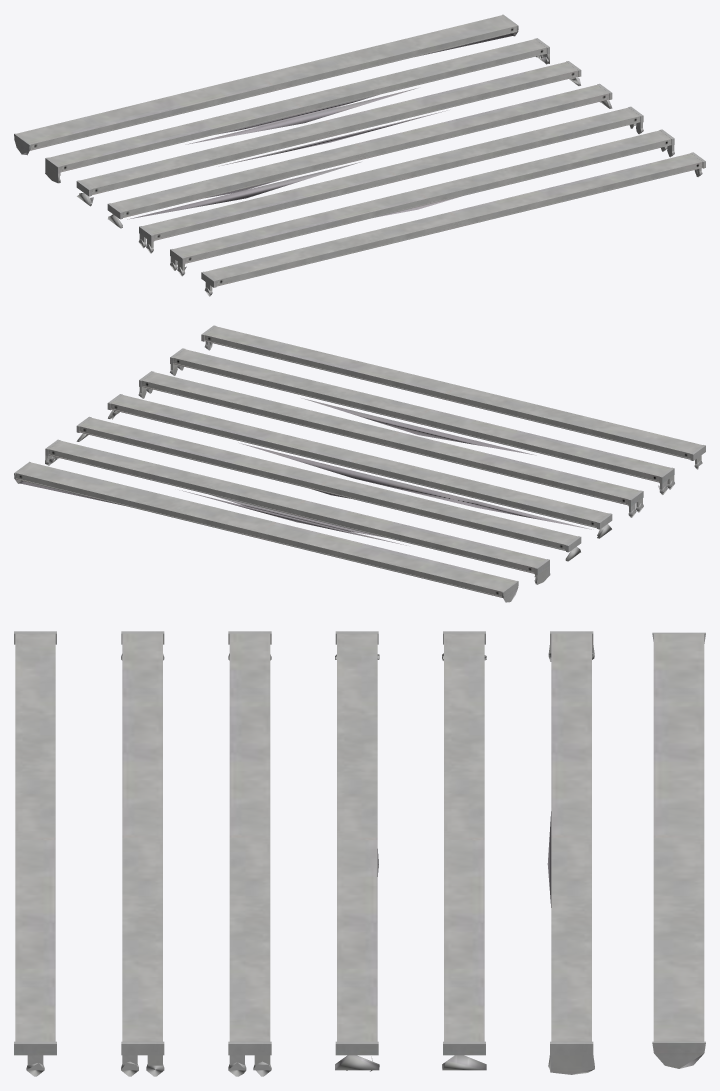
Rendered from fluorescent_light_low.glb.
3 views of the same model, one above another, from view 1: azimuth 30°, elevation 25°; view 2: azimuth 150°, elevation 25°; view 3: azimuth 270°, elevation 25° (orthographic). The views are drawn at different scales.
Parts seen in each view (by area): view 1: mounted_fluorescent_lights_a; view 2: mounted_fluorescent_lights_a; view 3: mounted_fluorescent_lights_a.
Boxes of the visible parts, x1=… form: mounted_fluorescent_lights_a: x1=14, y1=14, x2=705, y2=296; mounted_fluorescent_lights_a: x1=14, y1=325, x2=705, y2=602; mounted_fluorescent_lights_a: x1=14, y1=631, x2=705, y2=1076.
Size of the model in its own units: 0.9122 by 0.0351 by 0.6454.
2 materials, 2 textured.
